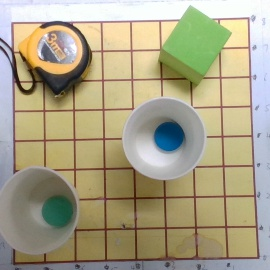cup_blue: (121, 96, 207, 183)
cup_green: (3, 163, 85, 255)
